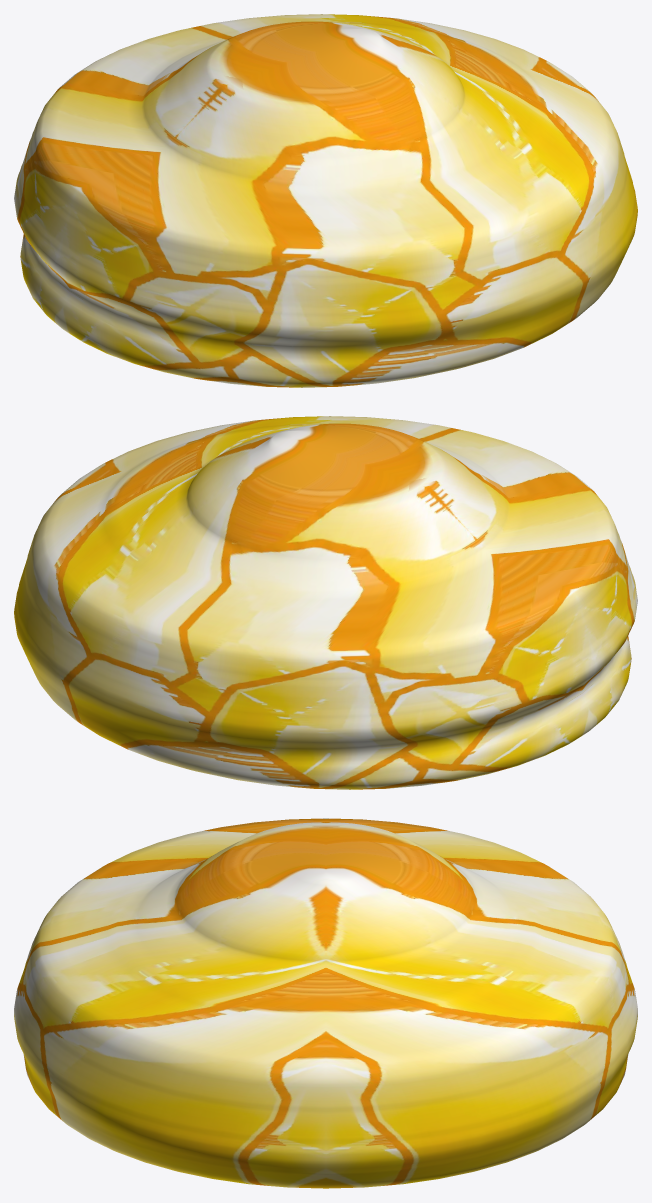
The model's file is gold_crystals.glb.
3 renders of one model, top to bottom at view 1: azimuth 30°, elevation 25°; view 2: azimuth 150°, elevation 25°; view 3: azimuth 270°, elevation 25°, orthographic.
Parts seen in each view (by area): view 1: gold_crystals; view 2: gold_crystals; view 3: gold_crystals.
Boxes of the visible parts, x1,y1,x2,y2 form: gold_crystals: [14, 14, 637, 387]; gold_crystals: [14, 416, 637, 789]; gold_crystals: [14, 818, 637, 1188].
Bounding box in the file's own units: 0.9955 × 0.4659 × 0.9903.
1 material, 1 textured.
